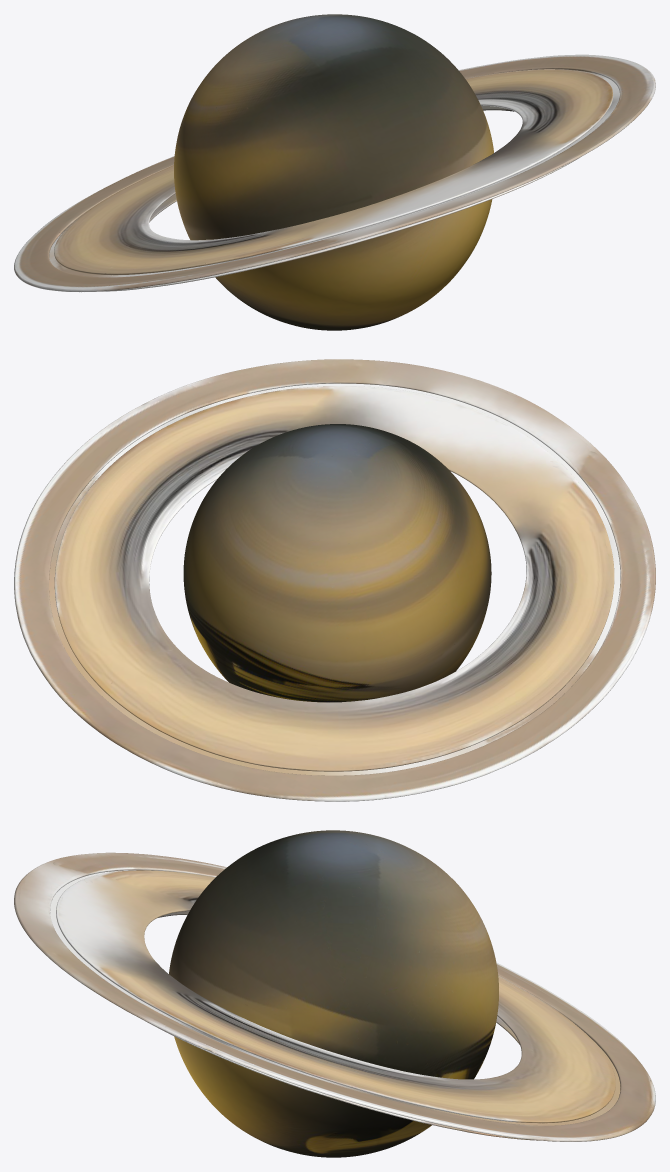
The model's file is saturn_20260524.glb.
The picture shows the model from 3 angles, top to bottom: view 1: azimuth 30°, elevation 25°; view 2: azimuth 150°, elevation 25°; view 3: azimuth 270°, elevation 25°; orthographic projection. The views are drawn at different scales.
Visible parts, largest first — view 1: node_0; view 2: node_0; view 3: node_0.
Boxes of the visible parts, x1,y1,x2,y2 form: node_0: (14,14,655,330); node_0: (14,359,655,801); node_0: (14,830,655,1157).
Size of the model in its own units: 1.19 by 0.5609 by 1.11.
1 material, 1 textured.
